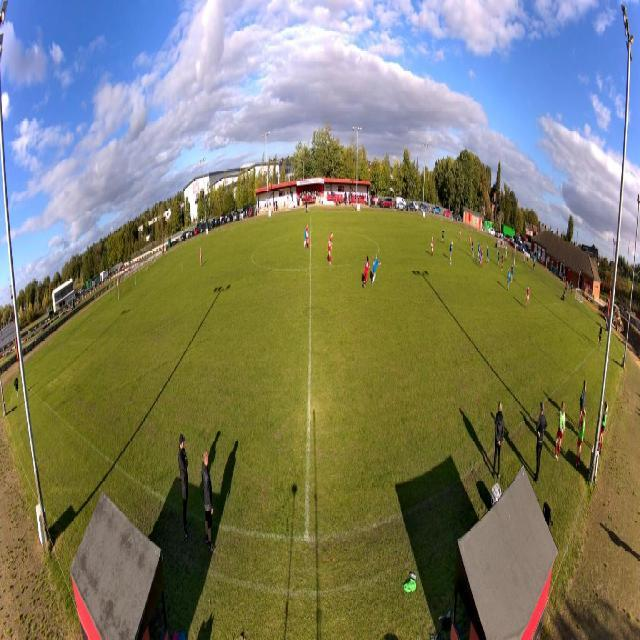ball: (450, 262, 452, 267)
player: (371, 253, 382, 288), (362, 255, 371, 289), (327, 231, 333, 268), (304, 222, 309, 250), (303, 223, 308, 250), (525, 285, 530, 312), (507, 266, 511, 293), (430, 236, 434, 257), (449, 241, 453, 262), (471, 239, 475, 260), (510, 263, 514, 284), (486, 244, 490, 264), (480, 250, 484, 269), (441, 226, 445, 244), (504, 246, 508, 263), (479, 247, 482, 268), (200, 246, 203, 267), (478, 241, 481, 260), (501, 253, 504, 272), (469, 232, 472, 249), (497, 249, 500, 266), (459, 227, 462, 242), (480, 243, 483, 254)
